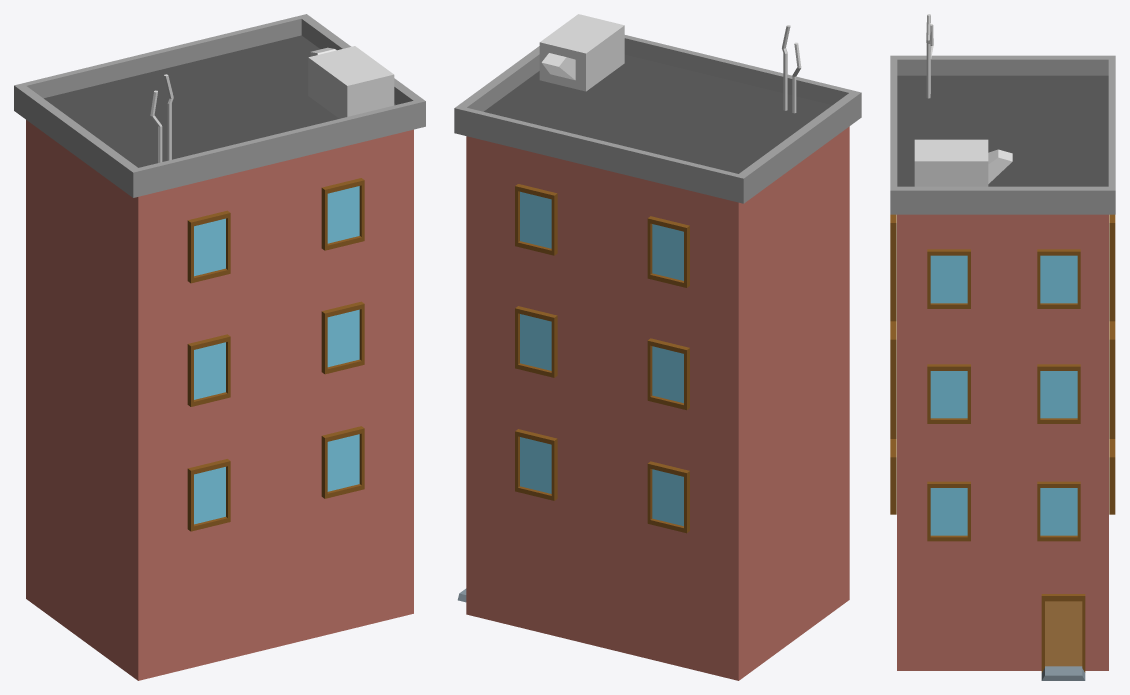
Rendered from tallthinbuilding2.fbx.
The picture shows the model from 3 angles, left to right: view 1: azimuth 30°, elevation 25°; view 2: azimuth 150°, elevation 25°; view 3: azimuth 270°, elevation 25°; orthographic projection. The views are drawn at different scales.
Visible parts, largest first — view 1: Cube, Cube.002, Cube.003, Cylinder; view 2: Cube, Cube.002, Cube.003, Cylinder; view 3: Cube, Cube.002, Cube.003, Cylinder.
Part boxes in pixels (left/top/right/bottom): Cube: left=14, top=14, right=425, bottom=680; Cube.002: left=187, top=178, right=364, bottom=531; Cube.003: left=308, top=46, right=394, bottom=118; Cylinder: left=150, top=74, right=173, bottom=162; Cube: left=454, top=35, right=861, bottom=680; Cube.002: left=457, top=184, right=689, bottom=602; Cube.003: left=539, top=14, right=624, bottom=91; Cylinder: left=782, top=25, right=801, bottom=113; Cube: left=890, top=55, right=1115, bottom=670; Cube.002: left=890, top=214, right=1115, bottom=680; Cube.003: left=914, top=139, right=1012, bottom=186; Cylinder: left=926, top=14, right=933, bottom=98.
Bounding box in the file's own units: 781 × 1423 × 528.
